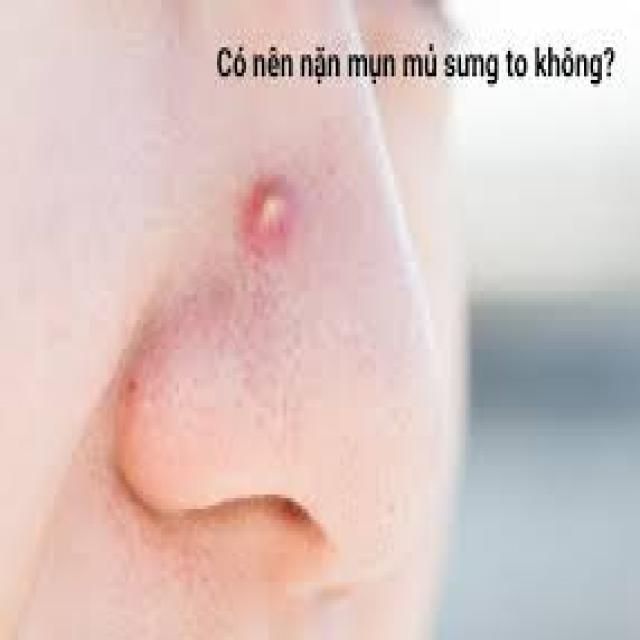pustule: (222, 138, 311, 276)
